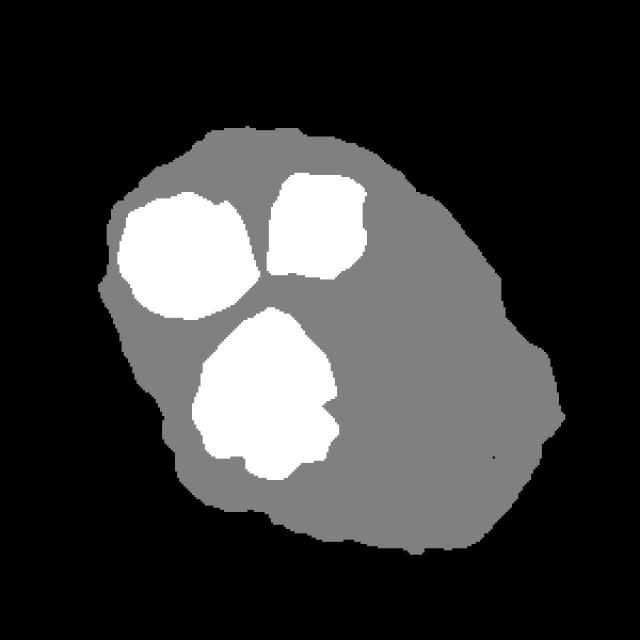WBC: (96, 111, 572, 582)
